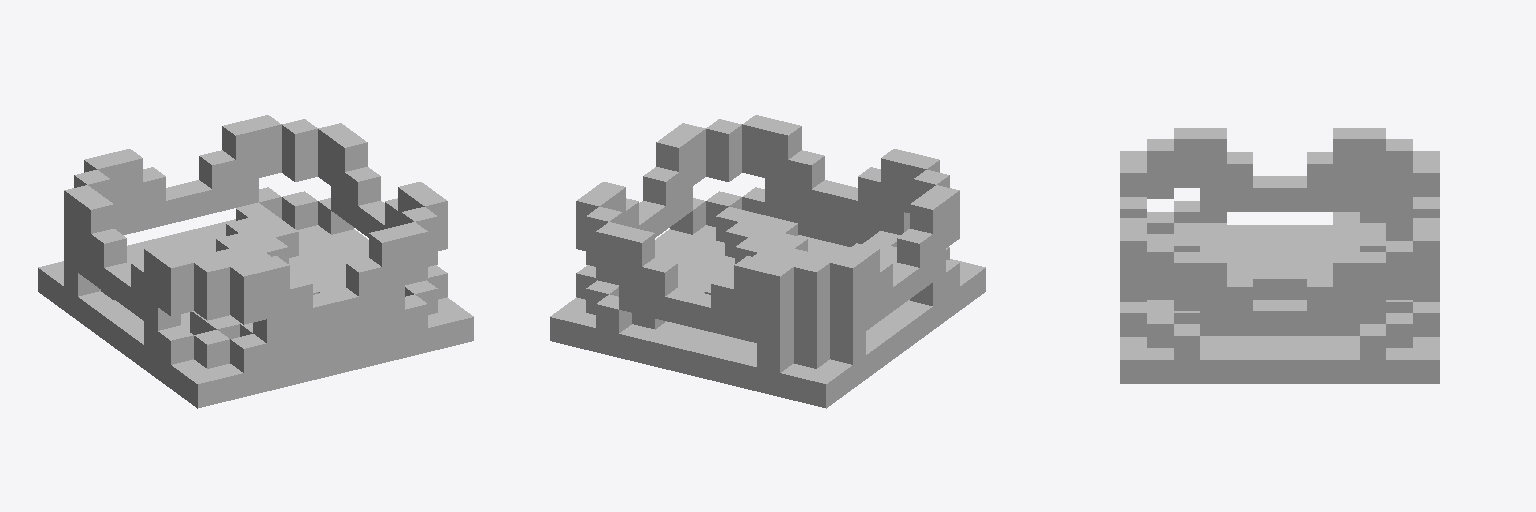
Rendered from Cooler.obj.
The picture shows the model from 3 angles: view 1: azimuth 30°, elevation 25°; view 2: azimuth 150°, elevation 25°; view 3: azimuth 270°, elevation 25°; orthographic projection.
Visible parts, largest first — view 1: object 1; view 2: object 1; view 3: object 1.
Part boxes in pixels (x1,y1,x2,y2): object 1: (38,115,473,408); object 1: (550,115,985,408); object 1: (1120,128,1439,383).
Size of the model in its own units: 1.2 by 0.5 by 1.2.